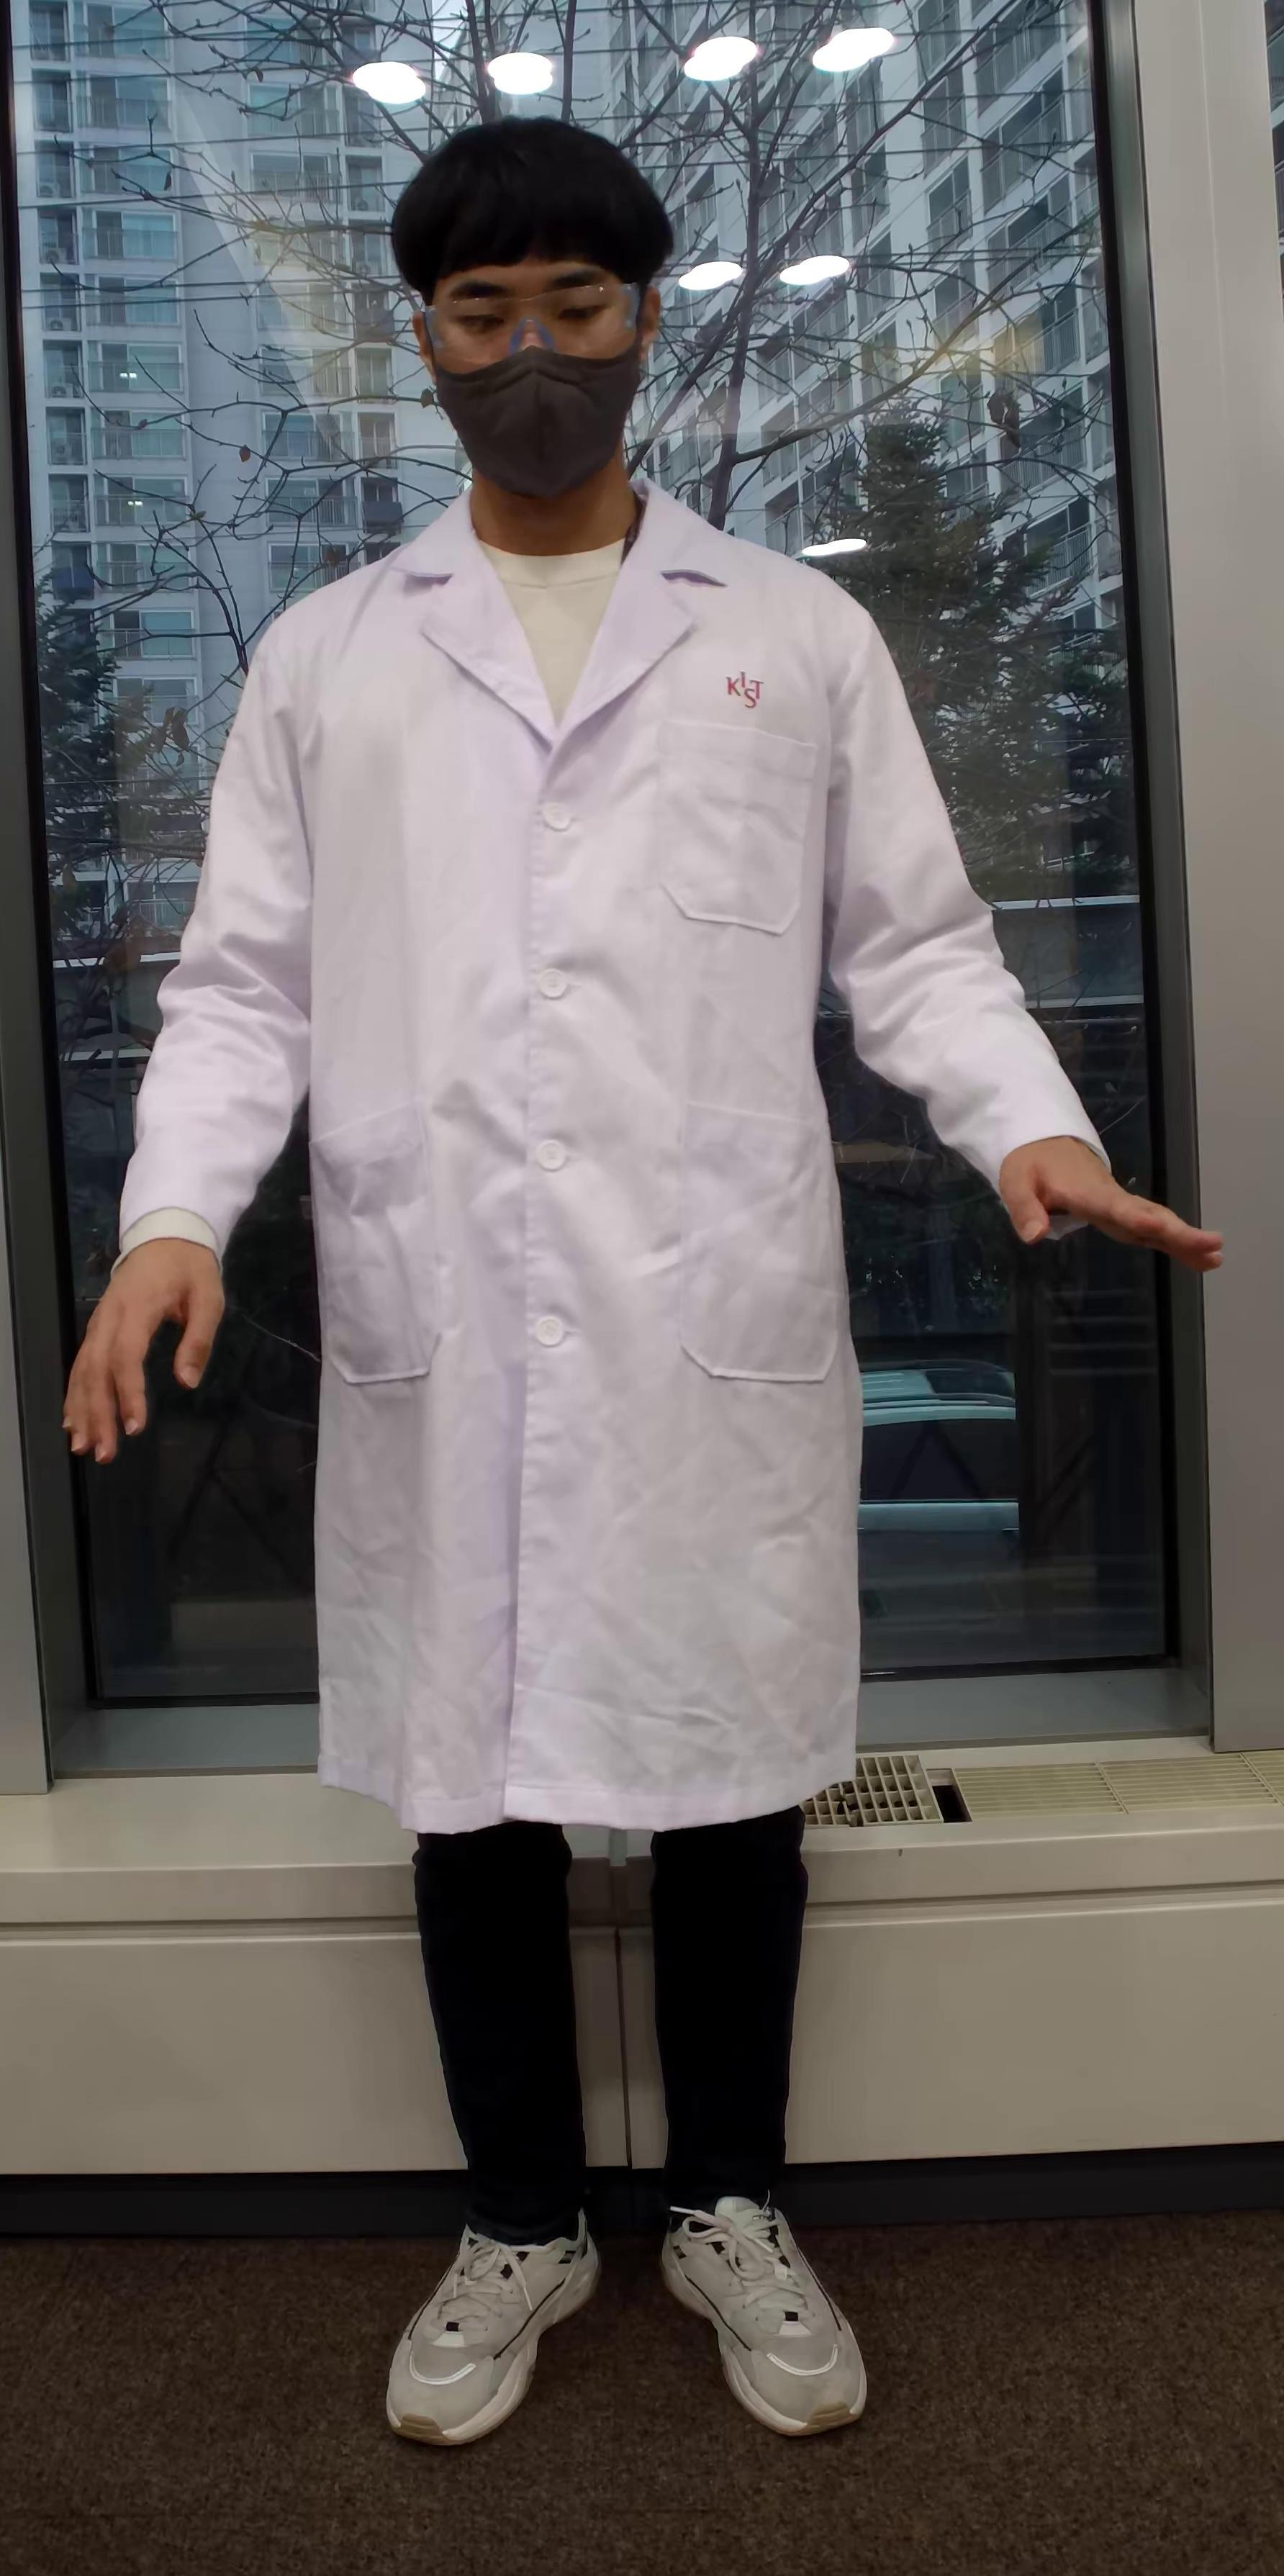lab_coat: (269, 613, 901, 1796)
